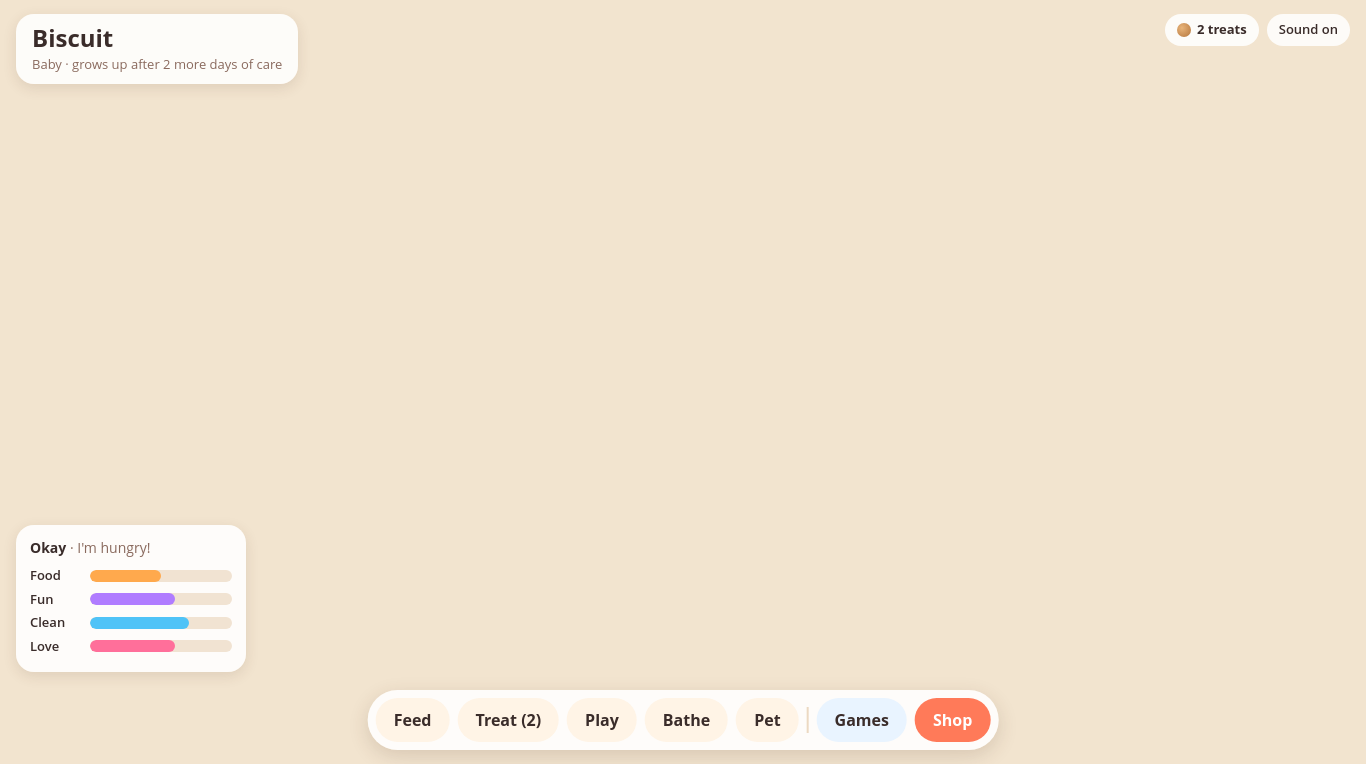
Test: a pet's egg from the shop hatches a second pet
This screenshot has width=1366, height=764.
Click the button "Shop": (953, 720) [915,698,990,742]
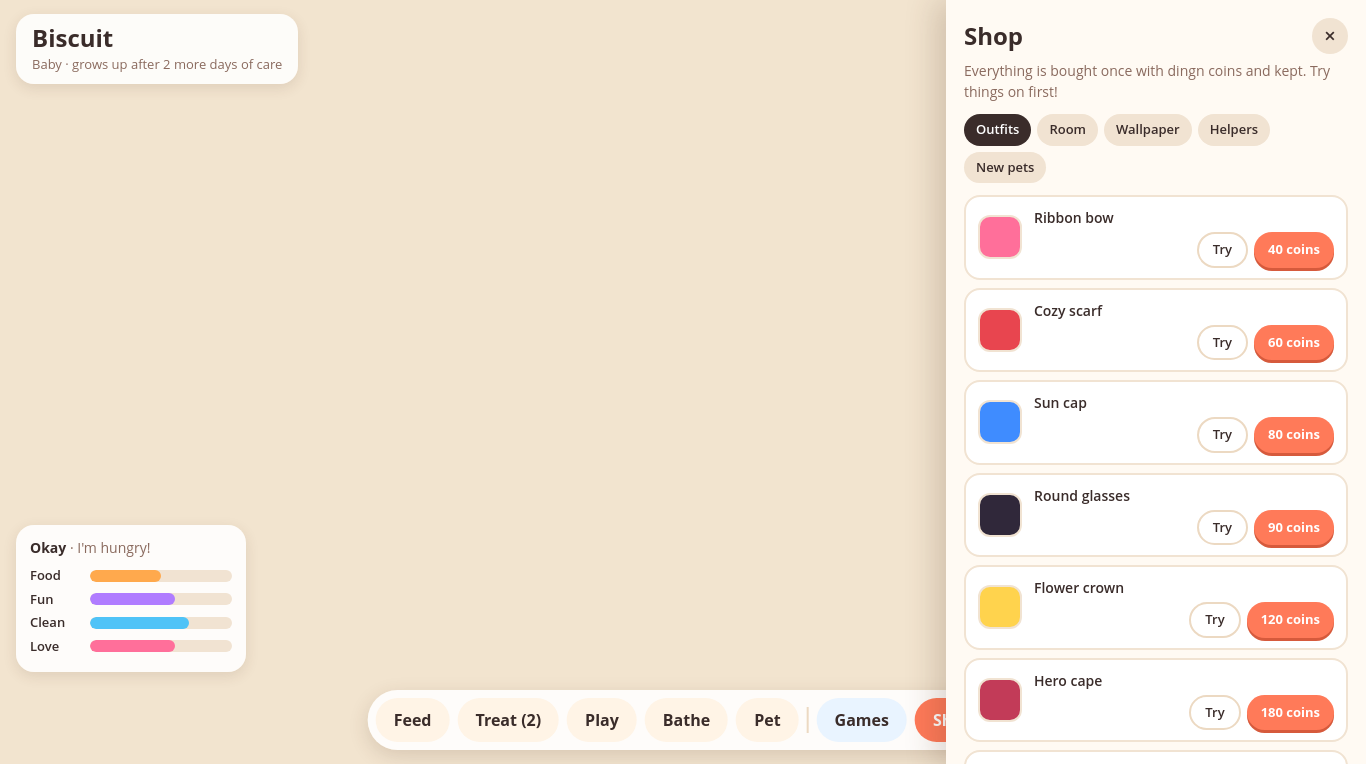
Click the tab "New pets": (1005, 167) [964,152,1046,183]
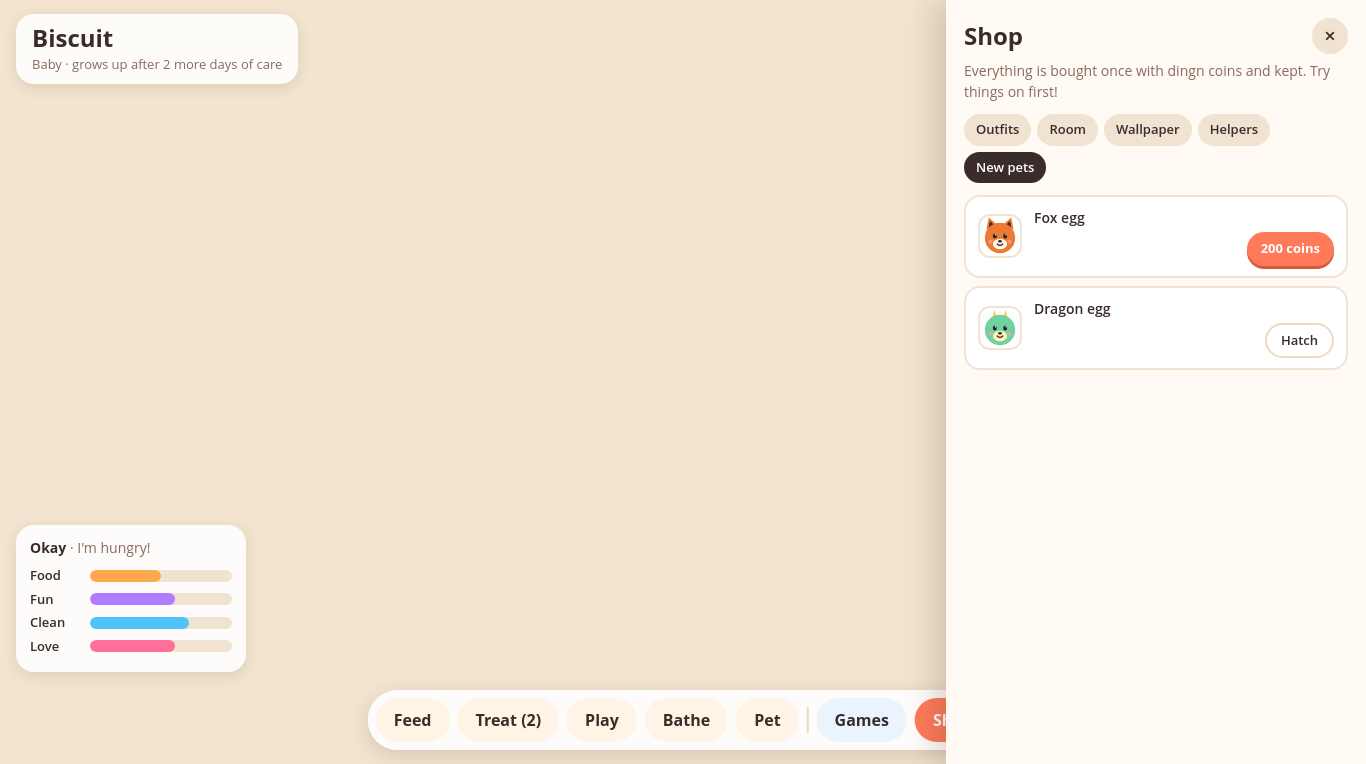
Click the button "Hatch": (1299, 340) [1265,322,1334,358]
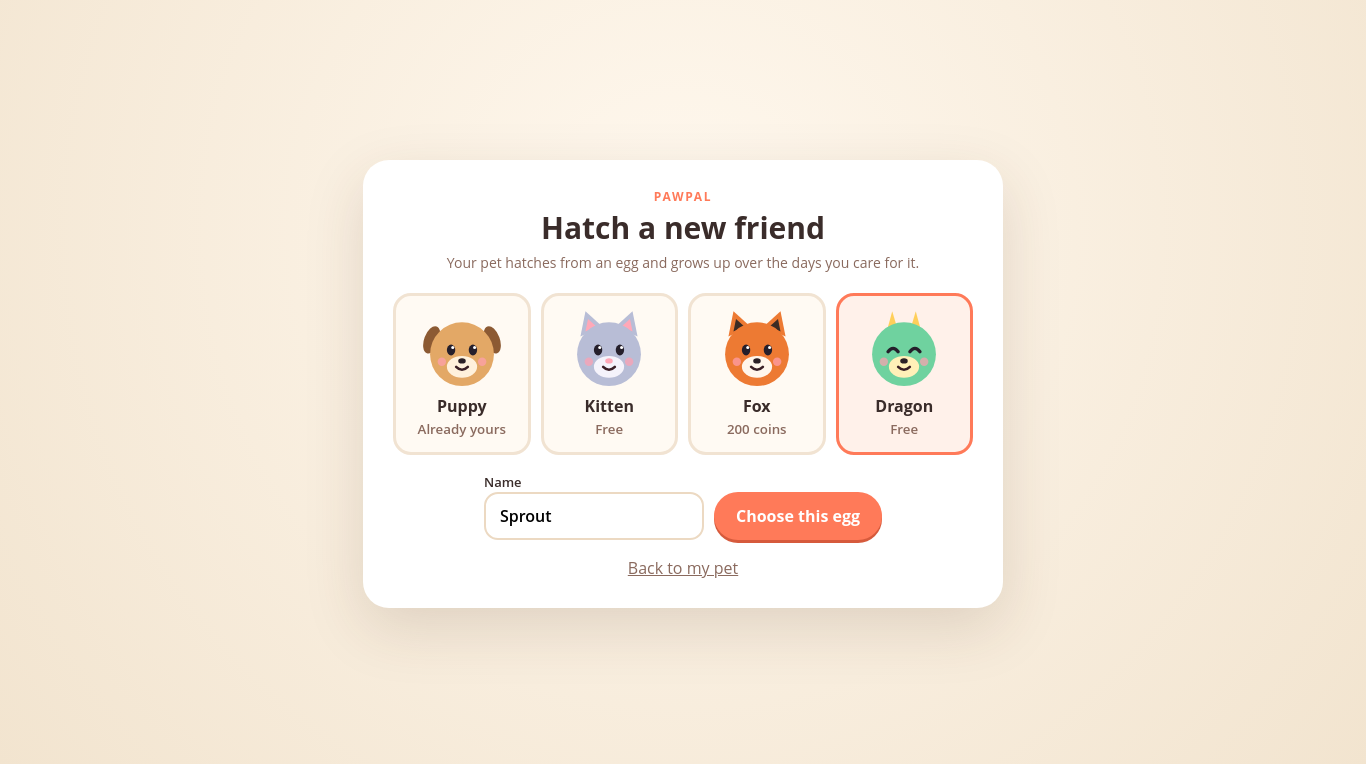
Click the button "Choose this egg": (798, 516) [714,492,882,540]
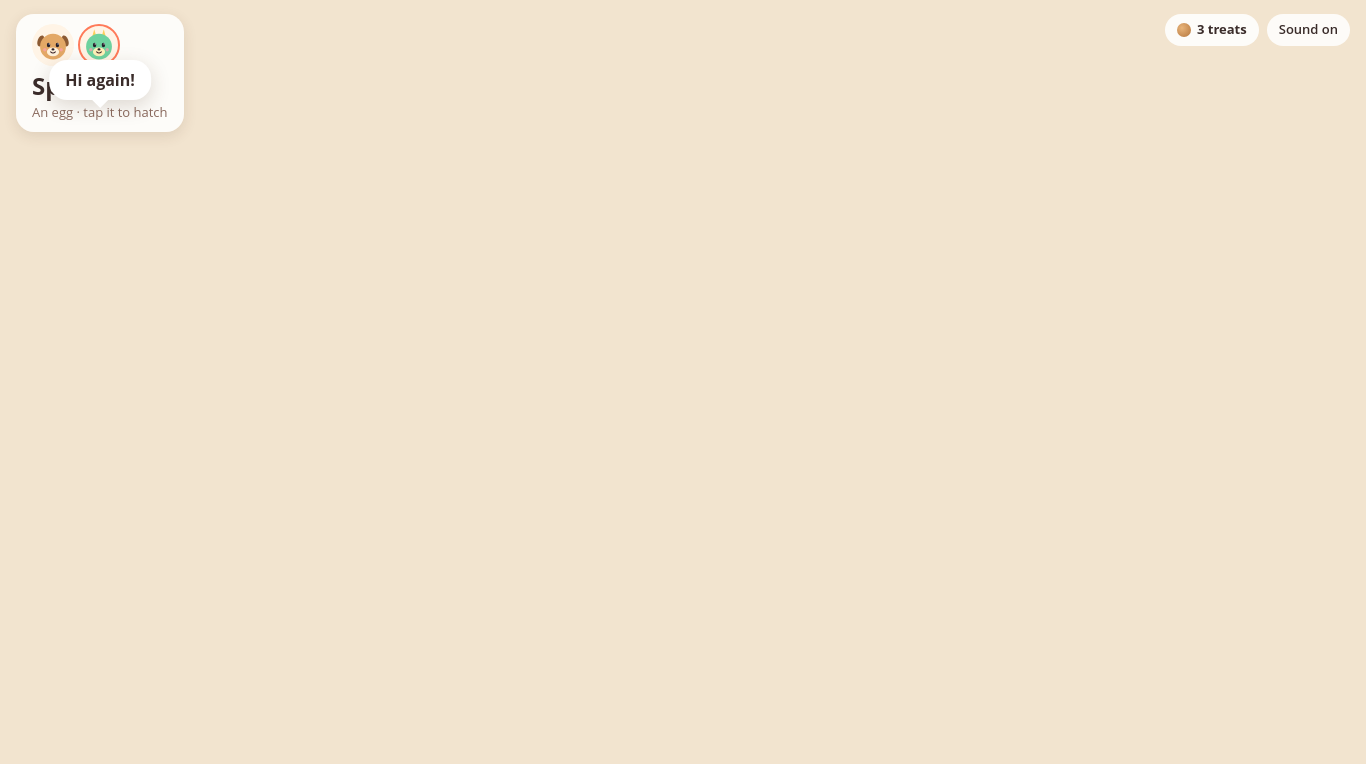
Check: the element named "Your pets" is shown, box [32,24,120,66]
